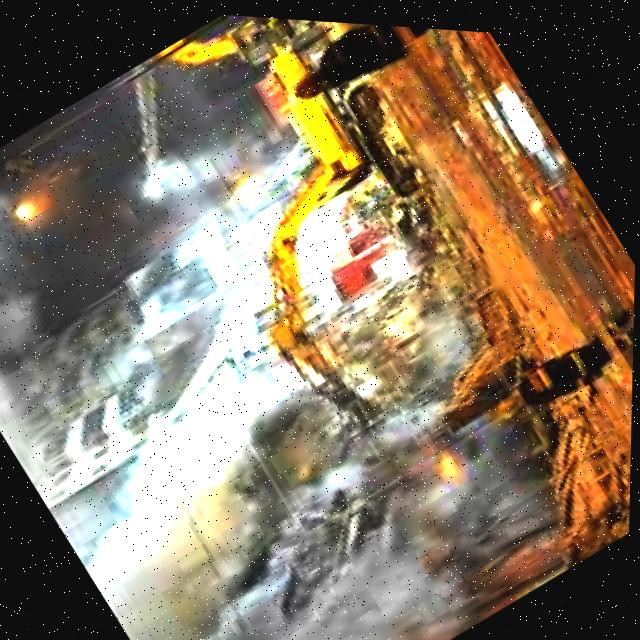Smoke: (18, 227, 579, 640)
